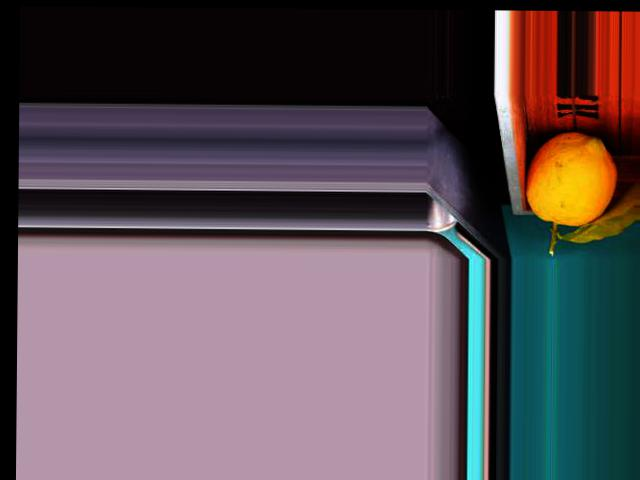lemon: (519, 131, 620, 231)
